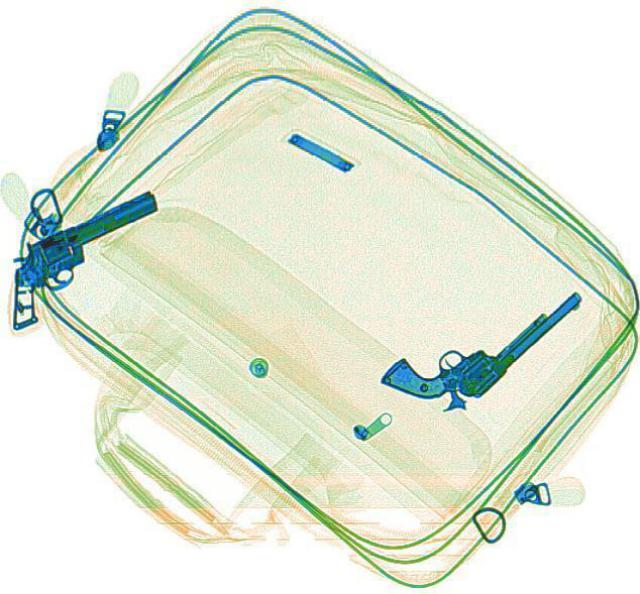Gun: (374, 245, 584, 429), (0, 188, 180, 304)
